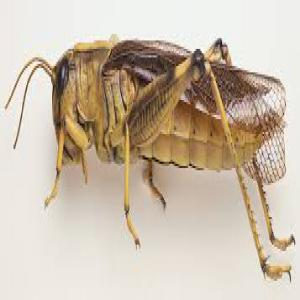locust: (14, 27, 295, 288)
